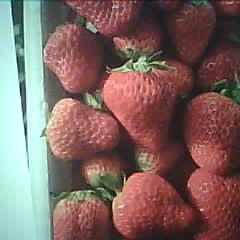straw-ripe: (111, 172, 195, 240), (105, 71, 174, 150), (182, 93, 239, 174), (51, 99, 117, 159)
